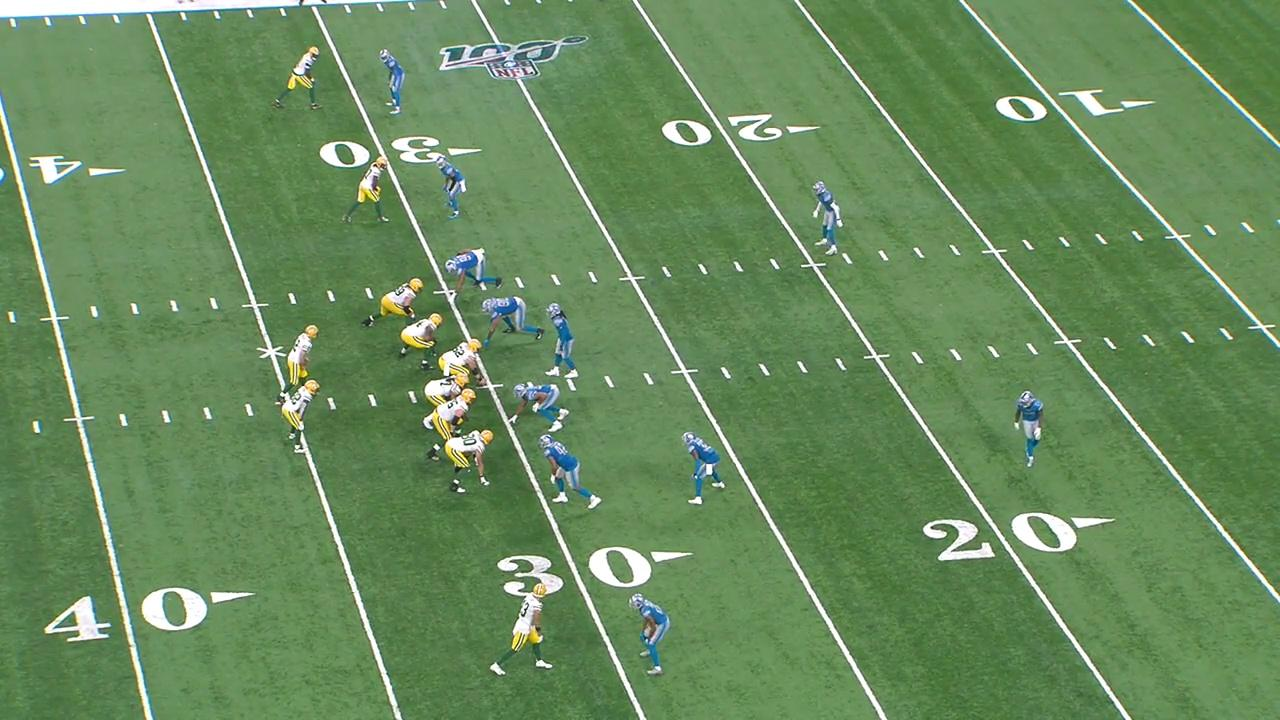player: (489, 577, 552, 680), (537, 434, 603, 509), (273, 324, 322, 410), (626, 594, 672, 680), (426, 389, 478, 463), (339, 152, 391, 225), (680, 430, 727, 509), (272, 43, 323, 111), (507, 381, 571, 435), (446, 426, 495, 496), (365, 277, 427, 331), (282, 376, 322, 456), (442, 244, 503, 296), (477, 296, 543, 341), (545, 301, 582, 380), (807, 178, 844, 254), (1012, 387, 1046, 469), (401, 314, 442, 372), (437, 152, 468, 224), (442, 341, 489, 386), (377, 44, 404, 118), (425, 372, 472, 405)
